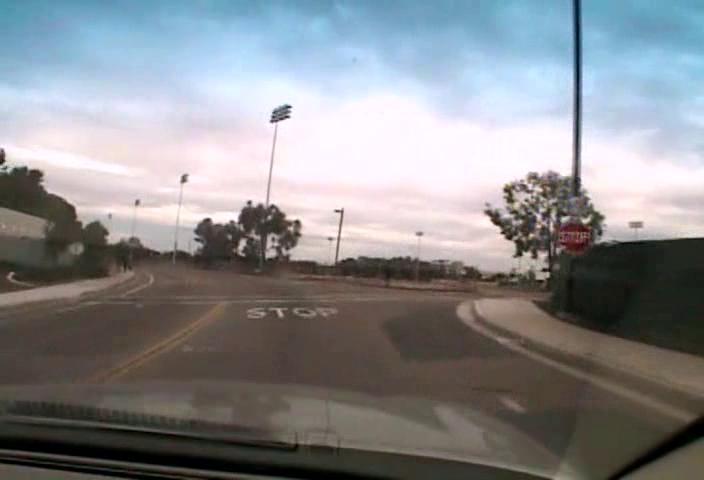stop: (556, 220, 589, 255)
